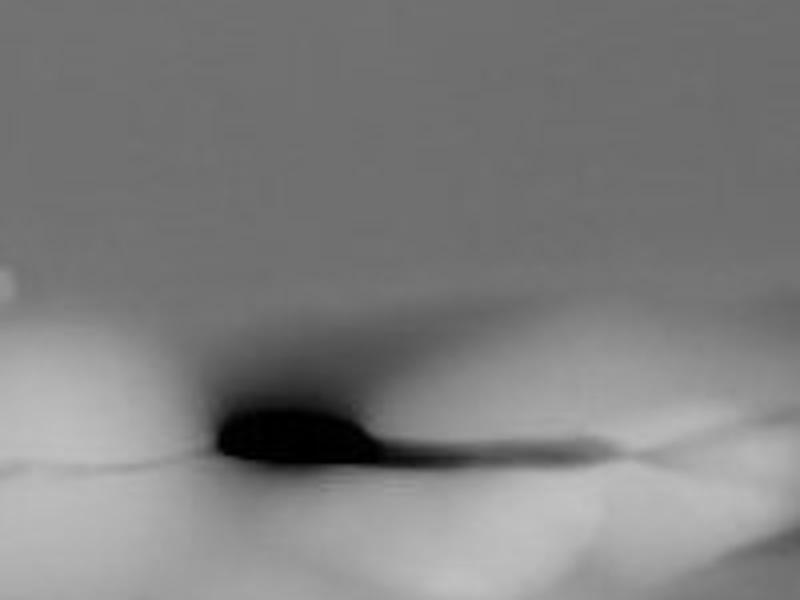defect: (216, 406, 388, 468)
